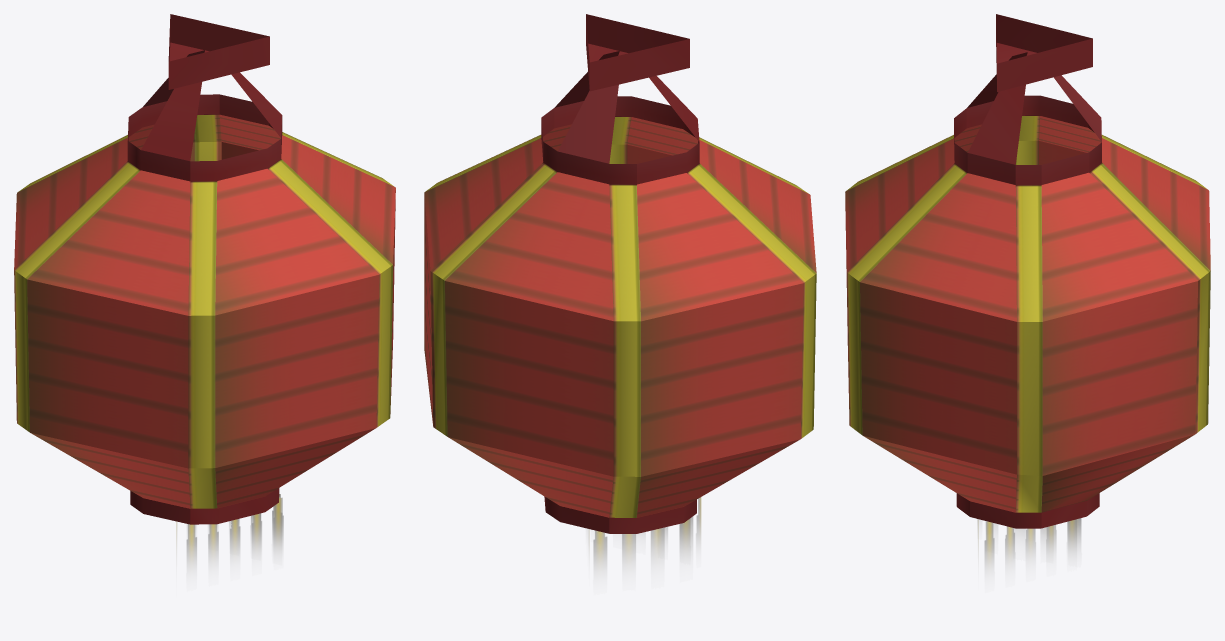
Rendered from lunar-year__Lamp02.glb.
3 views of the same model, side by side, from view 1: azimuth 30°, elevation 25°; view 2: azimuth 150°, elevation 25°; view 3: azimuth 270°, elevation 25° (orthographic).
Parts seen in each view (by area): view 1: Lamp02; view 2: Lamp02; view 3: Lamp02.
Part boxes in pixels (left/top/right/bottom): Lamp02: left=14, top=14, right=395, bottom=570; Lamp02: left=424, top=14, right=816, bottom=572; Lamp02: left=845, top=14, right=1210, bottom=571.
Size of the model in its own units: 1.28 by 1.85 by 1.1.
Materials: 2 (2 with a texture image).
